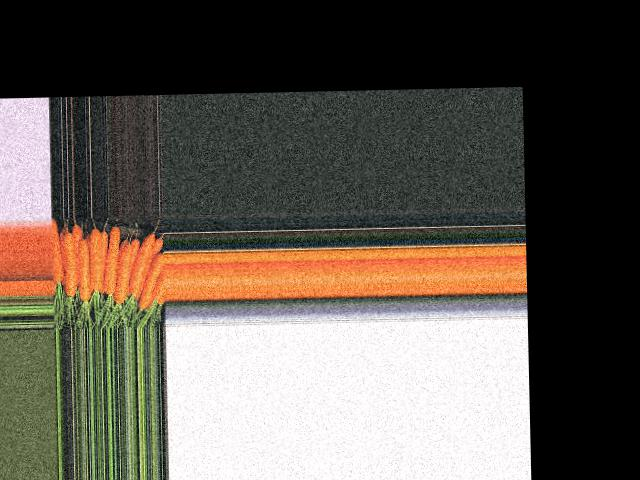carrot: (143, 247, 157, 308)
